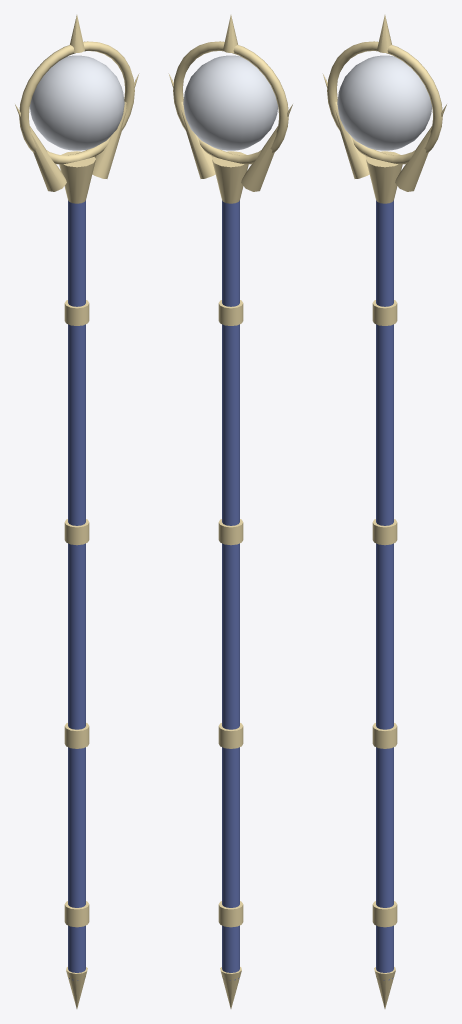
File: marina_right.glb
The picture shows the model from 3 angles, left to right: view 1: azimuth 30°, elevation 25°; view 2: azimuth 150°, elevation 25°; view 3: azimuth 330°, elevation 25°; orthographic projection.
Visible parts, largest first — view 1: marina_right; view 2: marina_right; view 3: marina_right.
Boxes of the visible parts, bbox=[...] form: marina_right: bbox=[15, 15, 139, 1008]; marina_right: bbox=[168, 15, 292, 1008]; marina_right: bbox=[322, 15, 446, 1008].
Size of the model in its own units: 0.257 by 1.96 by 0.17.
